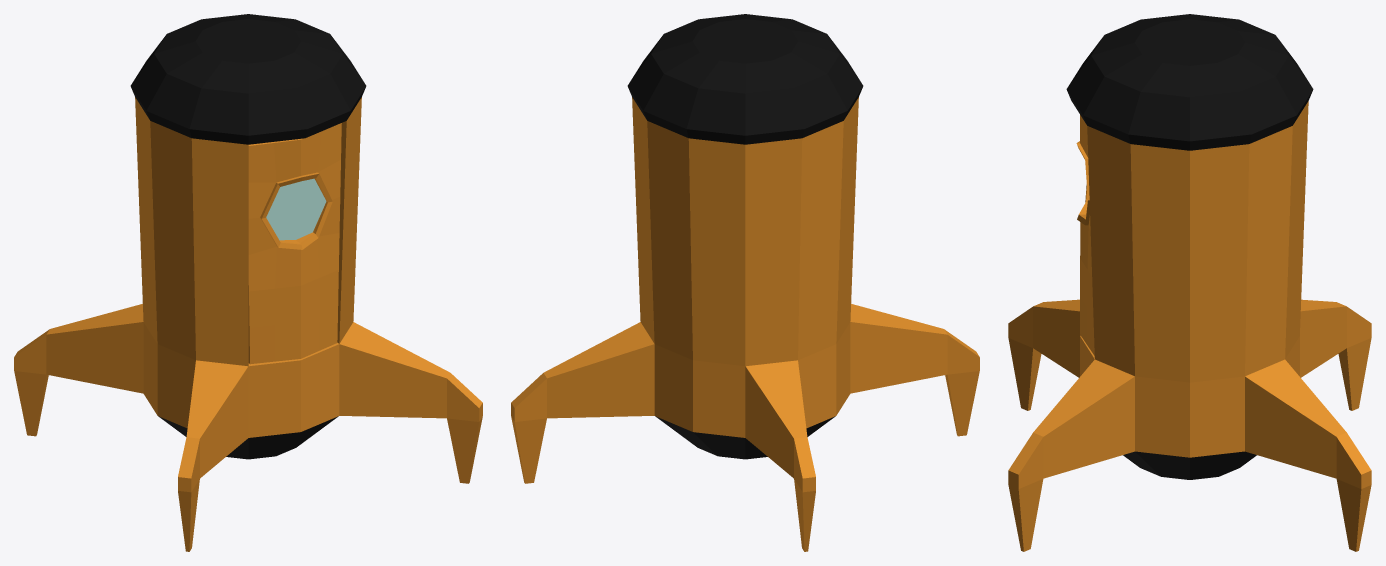
Rendered from rocket.fbx.
3 views of the same model, side by side, from view 1: azimuth 30°, elevation 25°; view 2: azimuth 150°, elevation 25°; view 3: azimuth 270°, elevation 25° (orthographic). The views are drawn at different scales.
Visible parts, largest first — view 1: Cylinder, Cylinder.001, Cylinder.002; view 2: Cylinder; view 3: Cylinder, Cylinder.001.
Boxes of the visible parts, x1,y1,x2,y2 form: Cylinder: (14, 14, 482, 551); Cylinder.001: (248, 123, 341, 364); Cylinder.002: (266, 178, 326, 240); Cylinder: (511, 14, 979, 551); Cylinder: (1008, 14, 1371, 551); Cylinder.001: (1076, 115, 1094, 355).
Bounding box in the file's own units: 423 × 554 × 417.
